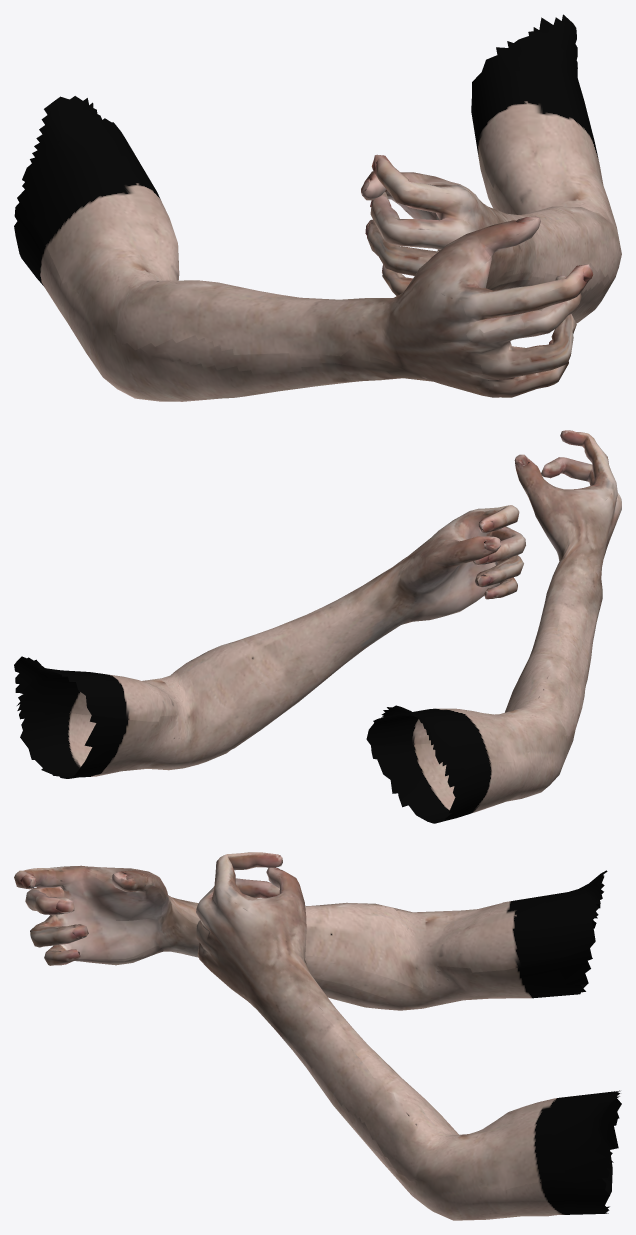
Rendered from Player_RPG.fbx.
3 renders of one model, top to bottom at view 1: azimuth 30°, elevation 25°; view 2: azimuth 150°, elevation 25°; view 3: azimuth 270°, elevation 25°, orthographic. The views are drawn at different scales.
Parts seen in each view (by area): view 1: Plane.001_MeshPart0_MeshPart0; view 2: Plane.001_MeshPart0_MeshPart0; view 3: Plane.001_MeshPart0_MeshPart0.
Boxes of the visible parts, x1=… form: Plane.001_MeshPart0_MeshPart0: x1=14, y1=14, x2=621, y2=401; Plane.001_MeshPart0_MeshPart0: x1=14, y1=430, x2=621, y2=823; Plane.001_MeshPart0_MeshPart0: x1=14, y1=852, x2=621, y2=1220.
Size of the model in its own units: 118 by 59.88 by 132.
